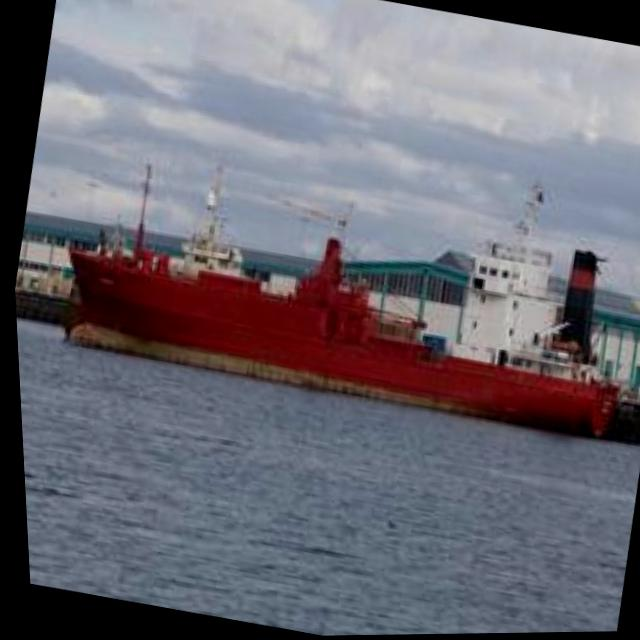ship2: (57, 164, 620, 442)
